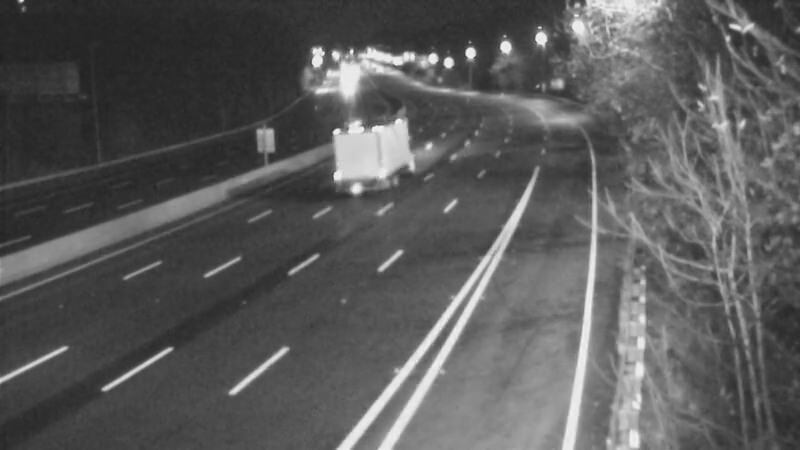vehicle: (351, 124, 401, 174), (321, 53, 371, 103)
